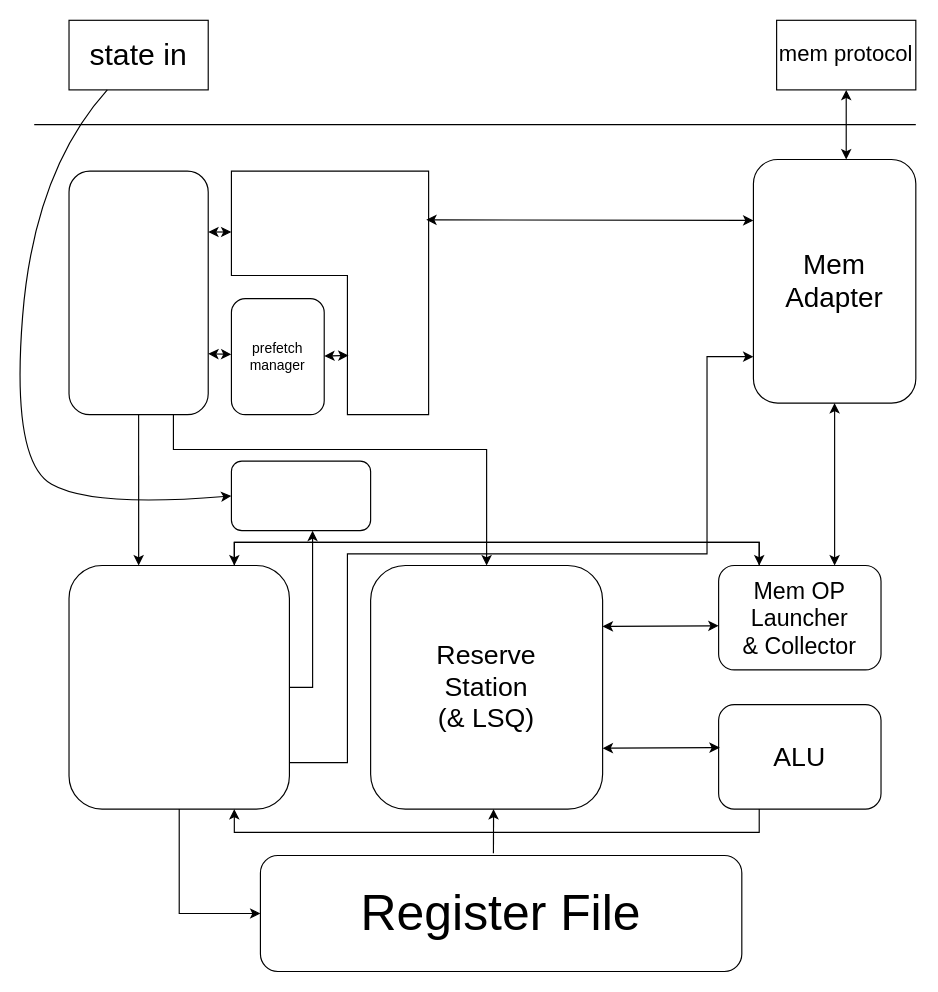
Some shapes in this 938 by 992 pixel diagram are drawn without their labels. Here are the shapes that lost their labels. From the top down, the centre of each, then its label:
At (x=138, y=292): "Instruction Queue".
At (x=329, y=292): "Instruction Cache".
At (x=300, y=495): "Controller".
At (x=178, y=686): "Reorder Buffer".
